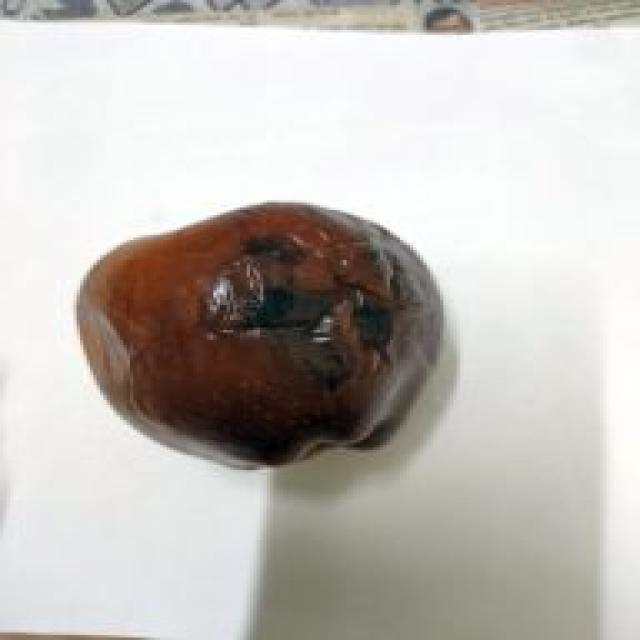Bad_Apple: (77, 202, 442, 467)
